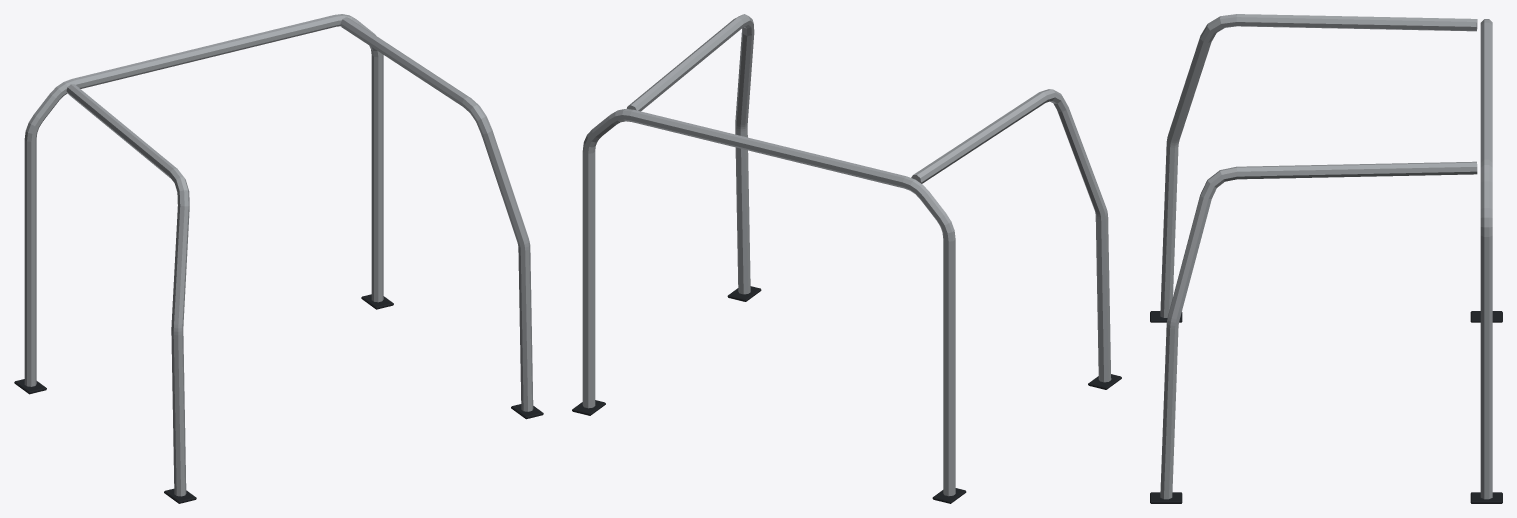
The model's file is strada_evo.glb.
The picture shows the model from 3 angles, left to right: view 1: azimuth 30°, elevation 25°; view 2: azimuth 150°, elevation 25°; view 3: azimuth 270°, elevation 25°; orthographic projection. The views are drawn at different scales.
Parts seen in each view (by area): view 1: model; view 2: model; view 3: model.
Part boxes in pixels (x1,y1,x2,y2): model: (14, 14, 543, 503); model: (572, 14, 1121, 503); model: (1150, 14, 1502, 503).
Bounding box in the file's own units: 1.4 × 1.09 × 1.09.
Materials: 2 (1 with a texture image).
